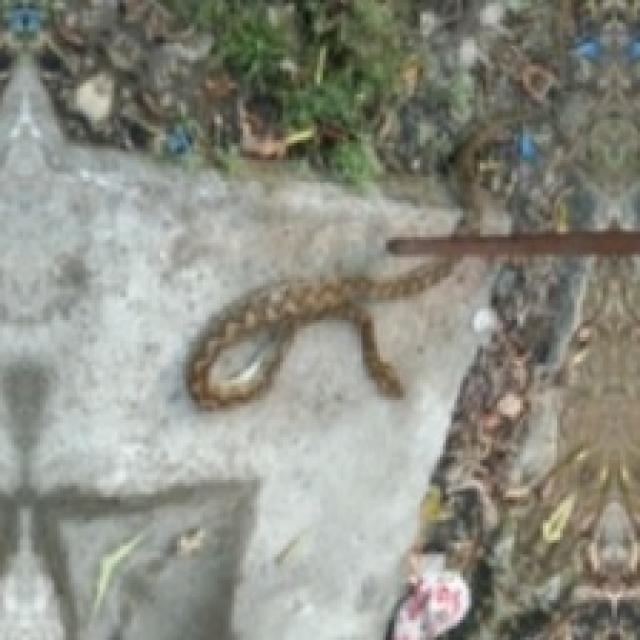reticulated python: (188, 262, 455, 408)
